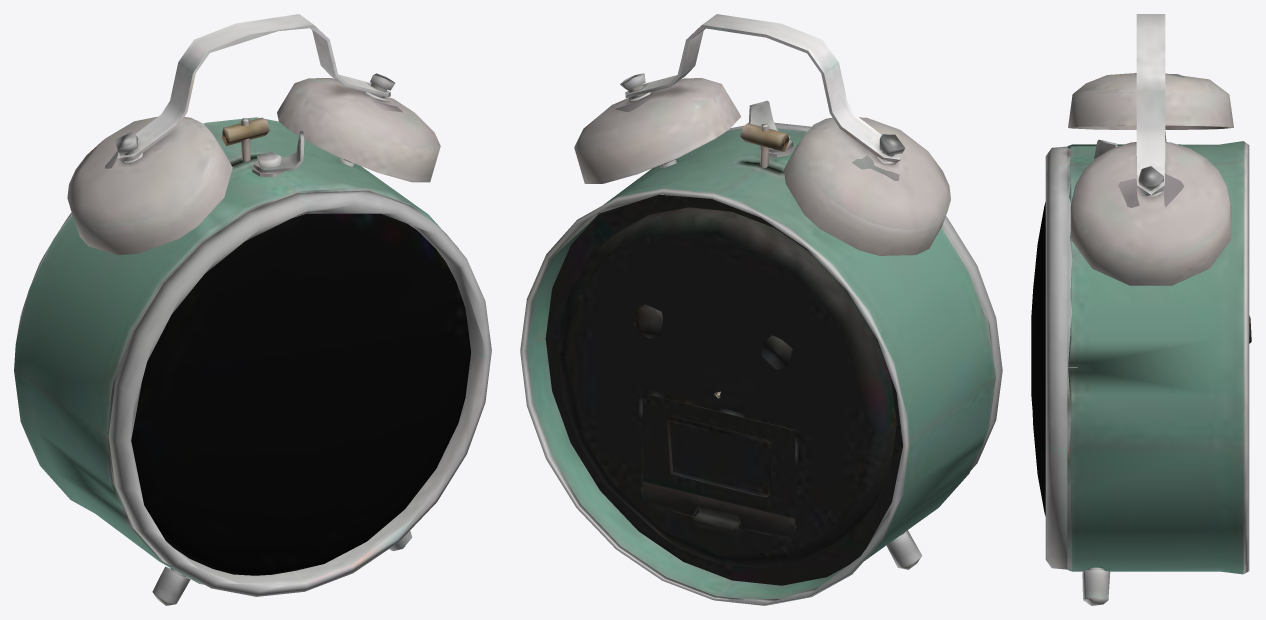
Rendered from clock.glb.
The picture shows the model from 3 angles, left to right: view 1: azimuth 30°, elevation 25°; view 2: azimuth 150°, elevation 25°; view 3: azimuth 270°, elevation 25°; orthographic projection. The views are drawn at different scales.
Parts seen in each view (by area): view 1: alarm_clock_01; view 2: alarm_clock_01; view 3: alarm_clock_01.
Part boxes in pixels (box(x1,y1,x2,y2)): alarm_clock_01: box(14, 14, 491, 605); alarm_clock_01: box(520, 14, 1002, 605); alarm_clock_01: box(1031, 14, 1251, 605).
Bounding box in the file's own units: 0.1312 × 0.1738 × 0.0666.
Materials: 2 (2 with a texture image).
